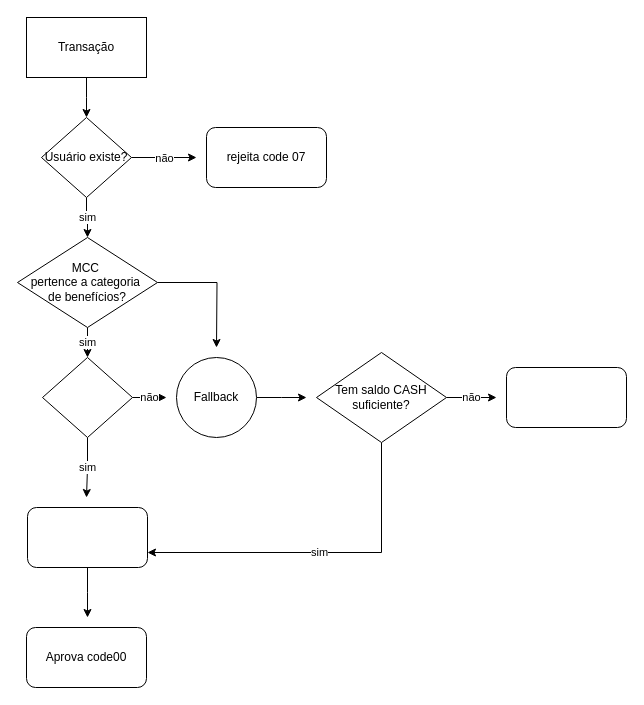
Some shapes in this 644 by 705 pixel diagram are drawn without their labels. Each missing label, with the centre of its shape:
"Atualiza Saldo portador" belongs at (87,537).
"rejeita code 51" belongs at (566,397).
"Tem saldo suficiente?" belongs at (87,397).
